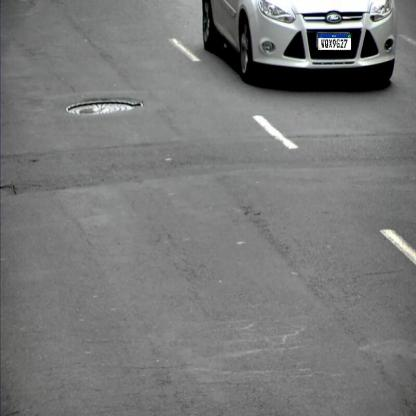PlacaM: (318, 33, 352, 51)
